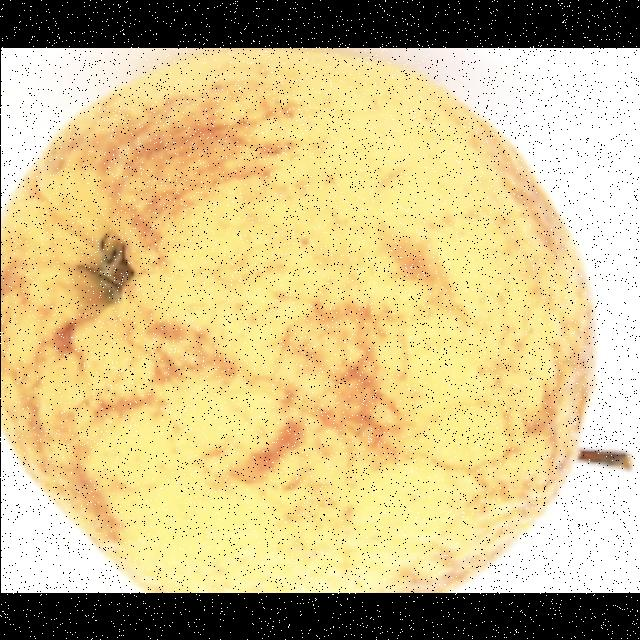Apel Tidak Segar: (0, 73, 618, 593)
